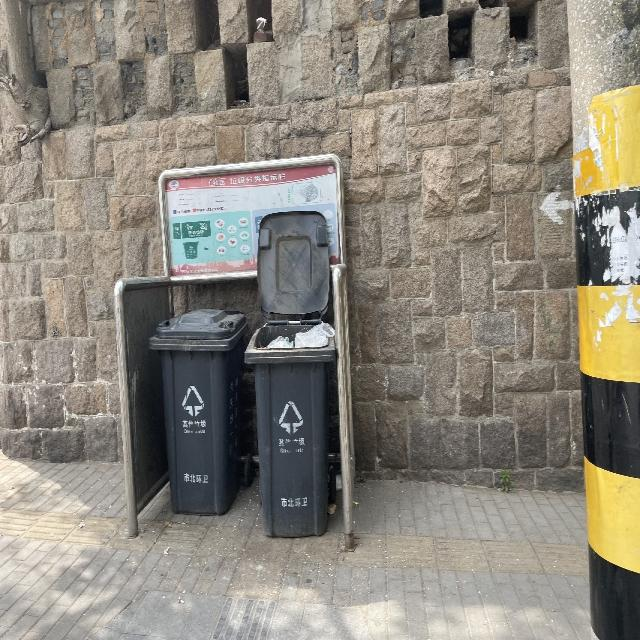garbage_bin: (146, 308, 246, 515)
overflow: (244, 320, 336, 536)
